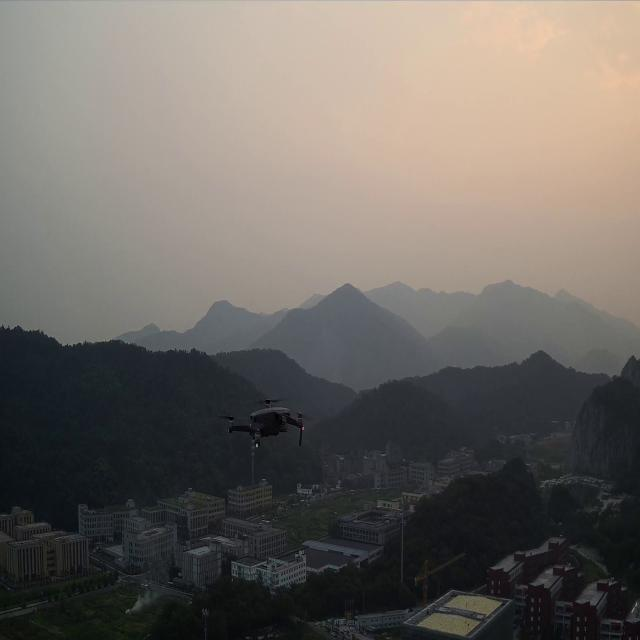UAV: (216, 397, 316, 449)
